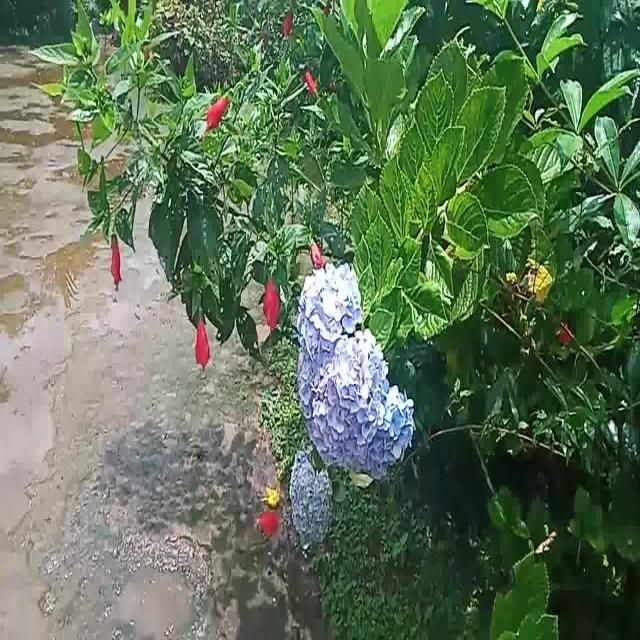Flower: (291, 259, 425, 467), (284, 451, 338, 553), (108, 227, 128, 297), (207, 88, 235, 138), (195, 307, 212, 376), (265, 267, 282, 334)
